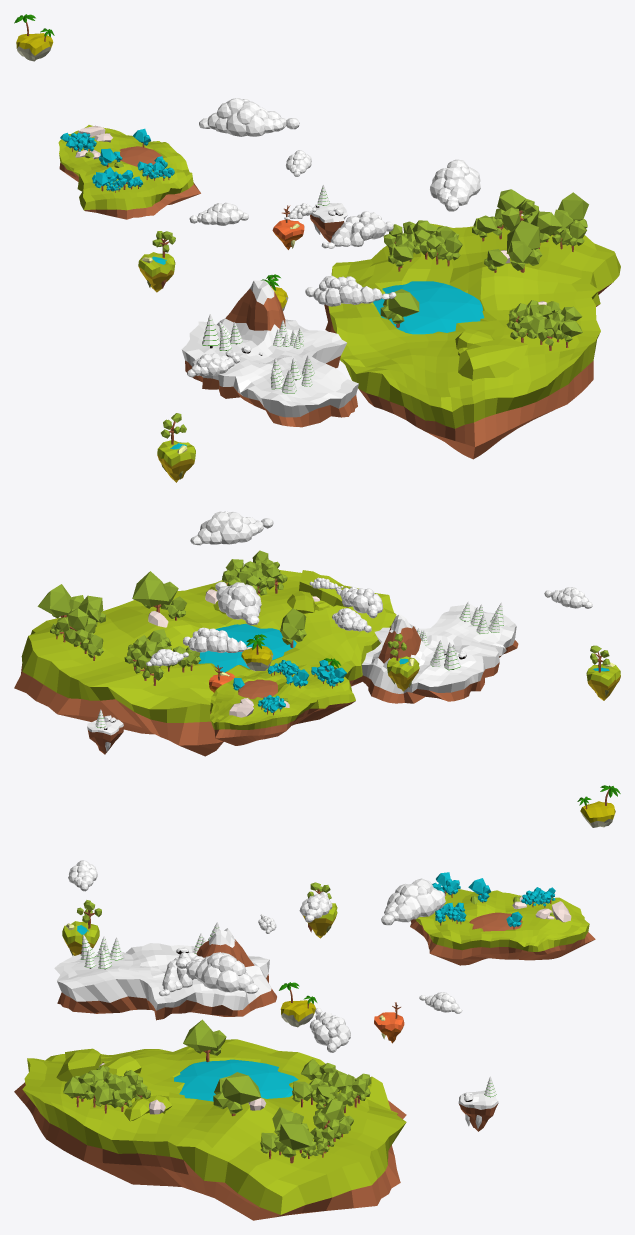
The model's file is Sky_Scene.fbx.
The picture shows the model from 3 angles, top to bottom: view 1: azimuth 30°, elevation 25°; view 2: azimuth 150°, elevation 25°; view 3: azimuth 270°, elevation 25°; orthographic projection. The views are drawn at different scales.
Parts seen in each view (by area): view 1: Spring Island Big, Winter Island Big, Spring Island Big.001, Cloud.001, Cloud.006, Cloud, Spring Island Small.001, Cloud.004, Spring Island Small, Winter Island Small, Summer Island.001, Cloud.009 (+2 smaller); view 2: Spring Island Big, Winter Island Big, Spring Island Big.001, Cloud.006, Cloud.001, Spring Island Small.001, Cloud.004, Spring Island Small, Cloud, Winter Island Small, Summer Island.001, Cloud.005 (+3 smaller); view 3: Spring Island Big, Winter Island Big, Spring Island Big.001, Cloud.006, Cloud.001, Winter Island Small, Cloud.004, Spring Island Small.001, Summer Island.001, Summer Island, Cloud, Spring Island Small (+3 smaller).
Boxes of the visible parts, x1=… form: Spring Island Big: x1=324, y1=189, x2=620, y2=459; Winter Island Big: x1=181, y1=280, x2=358, y2=427; Spring Island Big.001: x1=58, y1=125, x2=200, y2=219; Cloud.001: x1=199, y1=98, x2=299, y2=136; Cloud.006: x1=430, y1=159, x2=480, y2=211; Cloud: x1=305, y1=275, x2=396, y2=306; Spring Island Small.001: x1=157, y1=413, x2=195, y2=482; Cloud.004: x1=321, y1=211, x2=393, y2=248; Spring Island Small: x1=138, y1=231, x2=175, y2=292; Winter Island Small: x1=310, y1=184, x2=347, y2=242; Summer Island.001: x1=14, y1=14, x2=54, y2=61; Cloud.009: x1=189, y1=202, x2=248, y2=225; Spring Island Big: x1=14, y1=550, x2=396, y2=756; Winter Island Big: x1=359, y1=601, x2=518, y2=703; Spring Island Big.001: x1=210, y1=660, x2=355, y2=745; Cloud.006: x1=190, y1=511, x2=273, y2=545; Cloud.001: x1=215, y1=581, x2=261, y2=625; Spring Island Small.001: x1=586, y1=645, x2=620, y2=700; Cloud.004: x1=183, y1=627, x2=251, y2=652; Spring Island Small: x1=387, y1=634, x2=419, y2=691; Cloud: x1=335, y1=586, x2=383, y2=618; Winter Island Small: x1=87, y1=709, x2=123, y2=754; Summer Island.001: x1=241, y1=634, x2=273, y2=671; Cloud.005: x1=544, y1=587, x2=592, y2=608; Spring Island Big: x1=14, y1=1019, x2=406, y2=1220; Winter Island Big: x1=54, y1=922, x2=276, y2=1020; Spring Island Big.001: x1=410, y1=872, x2=595, y2=965; Cloud.006: x1=175, y1=952, x2=259, y2=993; Cloud.001: x1=381, y1=878, x2=445, y2=925; Winter Island Small: x1=458, y1=1076, x2=498, y2=1131; Cloud.004: x1=310, y1=1008, x2=350, y2=1052; Spring Island Small.001: x1=62, y1=900, x2=101, y2=955; Summer Island.001: x1=577, y1=785, x2=620, y2=827; Summer Island: x1=279, y1=982, x2=317, y2=1027; Cloud: x1=159, y1=952, x2=204, y2=996; Spring Island Small: x1=303, y1=882, x2=337, y2=938.
Bounding box in the file's own units: 12696 × 6310 × 12169.
